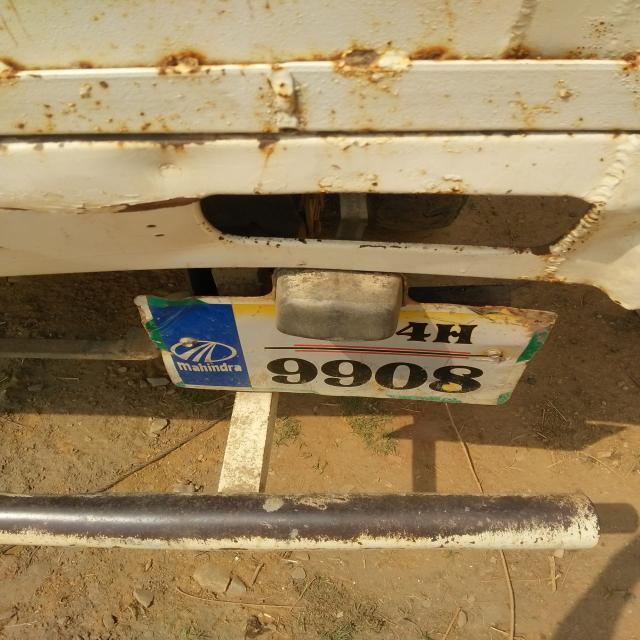plate: (142, 286, 557, 407)
